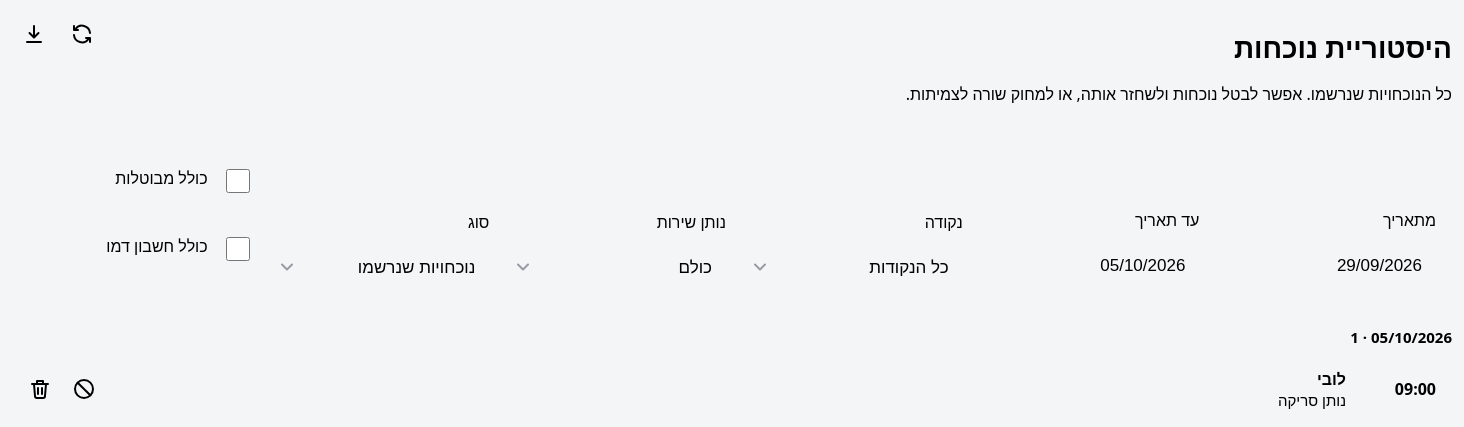
Scenario: switching History to the visits that were not counted › goes back to the scans, with the file, when another type is chosen
Expected: the text "נותן סריקה" is shown, [1278,390,1346,410]
Select "לא נקלטו" in the dropdown labelled "סוג". click: (377, 267)
box: [265,241,489,293]
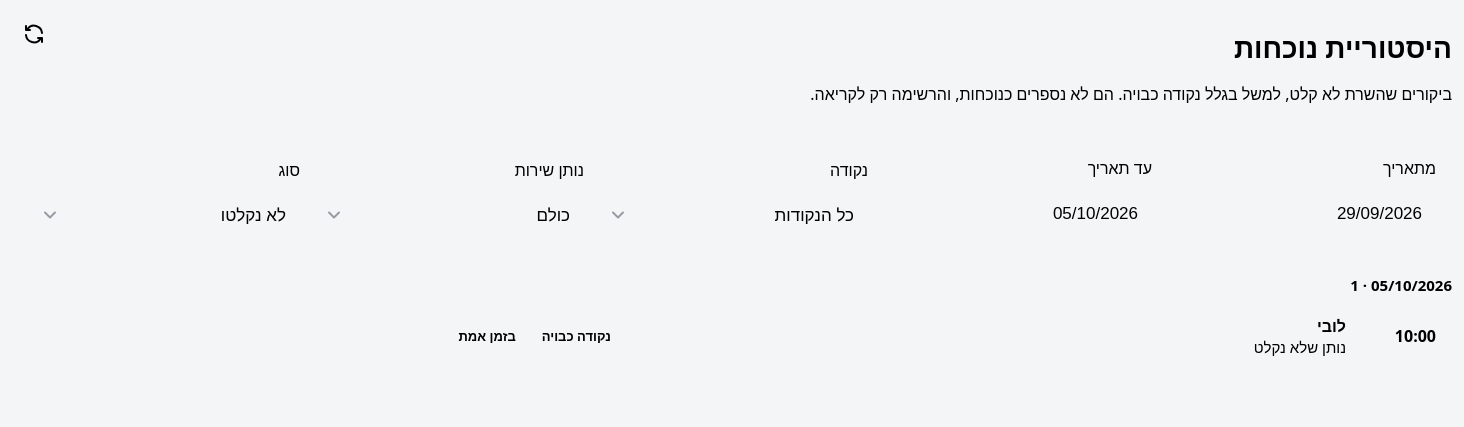
Expected: the text "נקודה כבויה" is shown, [542,327,611,345]
Select "הכול" in the dropdown labelled "סוג". click: (164, 215)
box: [28,189,300,241]
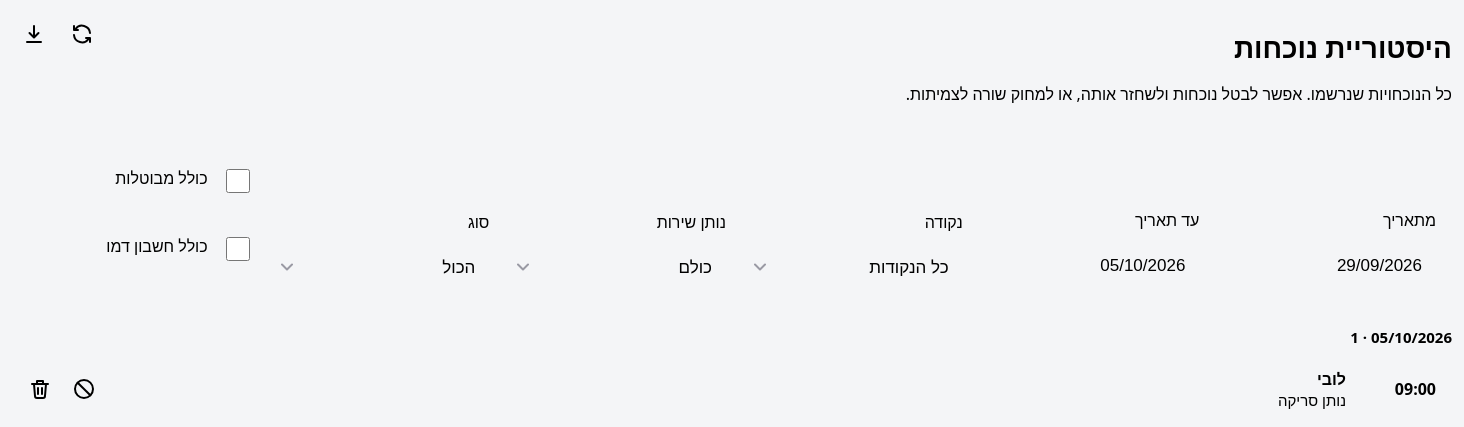
Expected: the text "נותן סריקה" is shown, [1278,390,1346,410]
Expected: the text "נותן שלא נקלט" is gone
Expected: the text "נקודה כבויה" is gone
